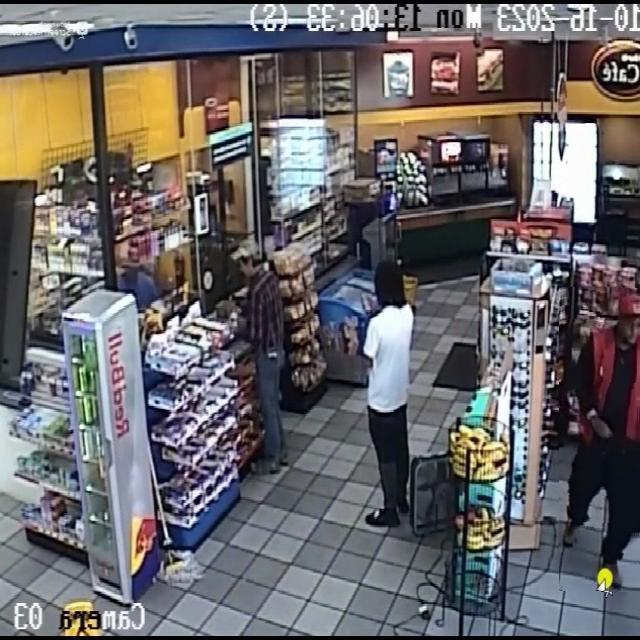Normal: (559, 287, 640, 592)
